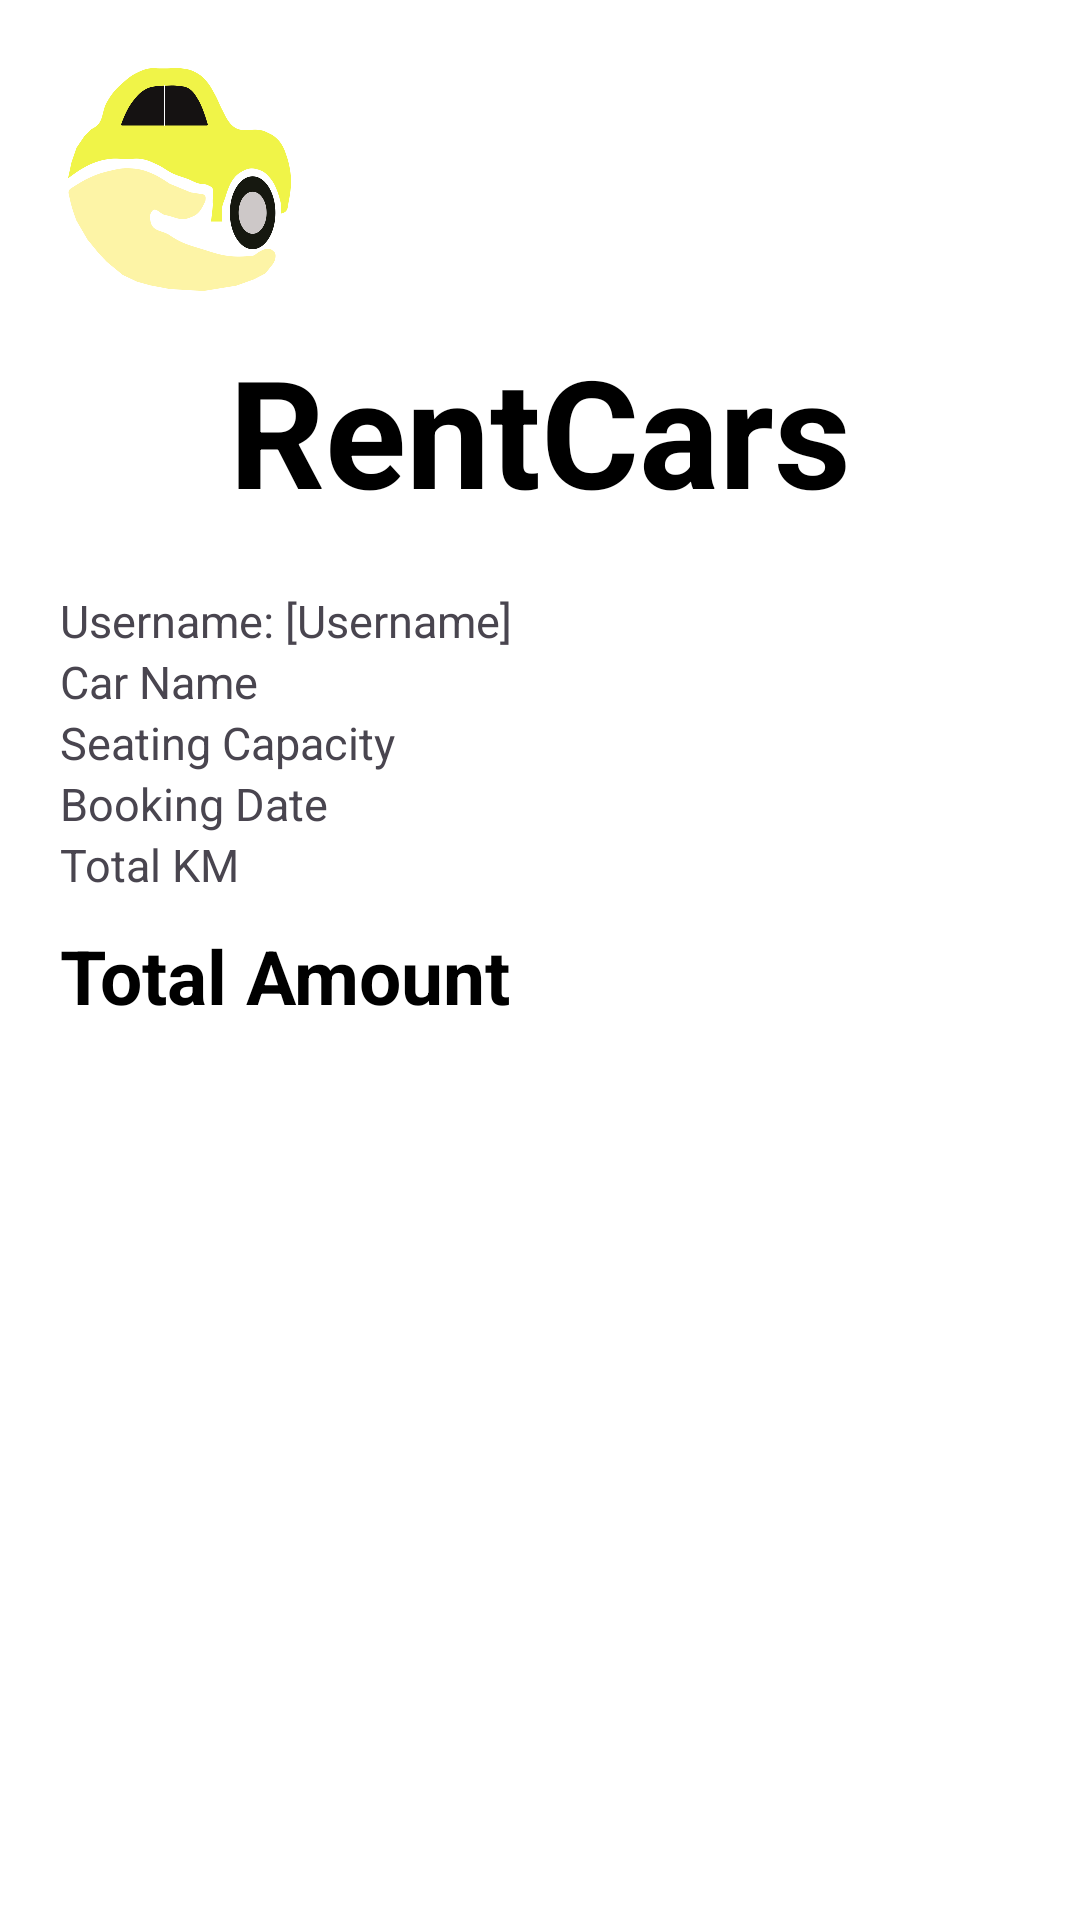

Named icons in this screenshot (1080px×1920px) and their centers, (x,y):
car: (179,179)
